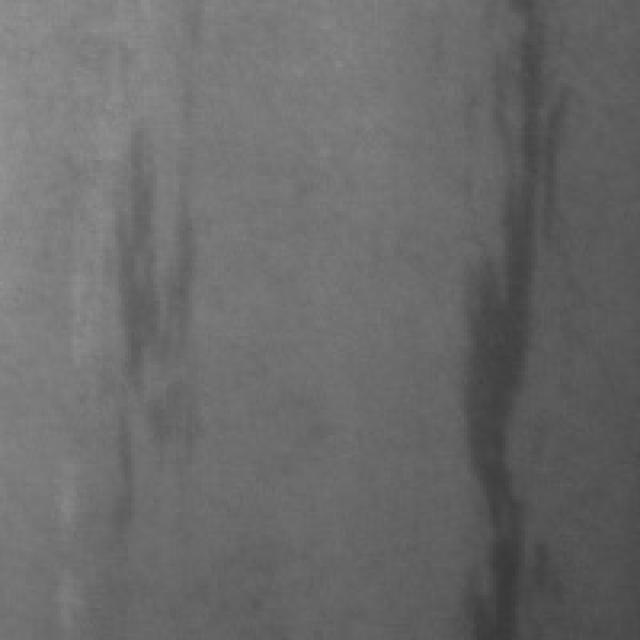inclusion: (438, 0, 570, 634), (90, 80, 214, 474), (61, 391, 144, 554)
